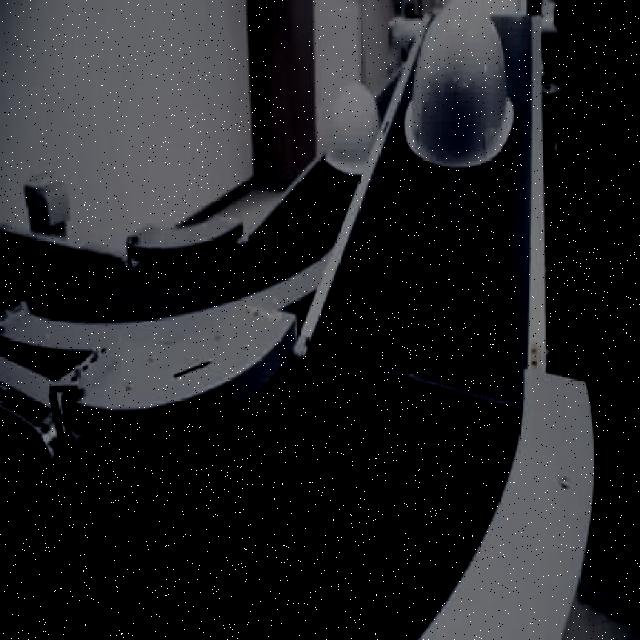Helmet: (404, 6, 514, 172), (323, 84, 382, 178)
